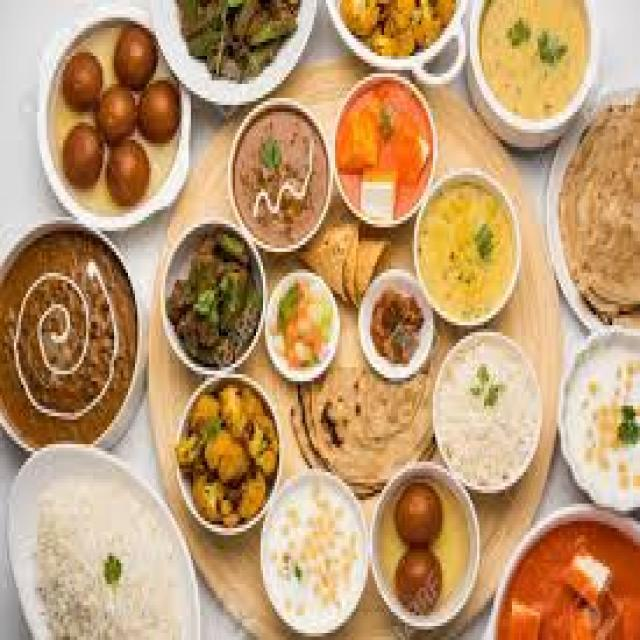curd: (432, 329, 547, 491), (258, 473, 365, 633)
dal: (413, 177, 522, 323), (473, 0, 593, 131)
papad: (301, 214, 415, 304)
raita: (261, 477, 365, 630), (563, 343, 639, 507), (261, 269, 348, 383)
rice: (554, 101, 638, 320), (433, 333, 546, 491), (563, 342, 639, 513)
roti: (555, 102, 639, 322), (305, 351, 438, 489)
sambar-rasam: (501, 504, 640, 640)
sweet: (43, 19, 190, 208), (8, 249, 137, 431), (375, 475, 470, 617), (337, 88, 433, 219), (262, 269, 344, 384), (357, 282, 436, 382)
veg-fry: (165, 0, 305, 105)
